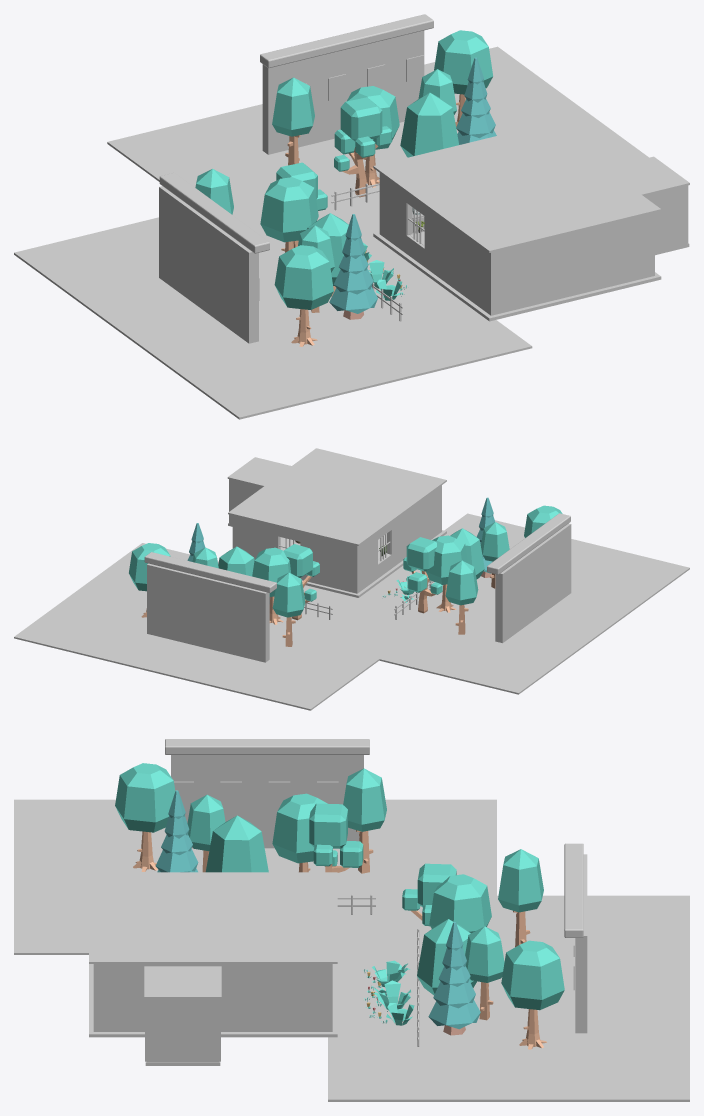
Rendered from kitchen.glb.
3 views of the same model, one above another, from view 1: azimuth 30°, elevation 25°; view 2: azimuth 150°, elevation 25°; view 3: azimuth 270°, elevation 25° (orthographic). The views are drawn at different scales.
Visible parts, largest first — view 1: grass, ceiling, k_leafsGreen, house_far, brick, roof_far, k_leafsDark, wall_next, k_woodBark, floor_tile, window_far, k_grass (+1 smaller); view 2: grass, house_far, ceiling, k_leafsGreen, brick, roof_far, k_woodBark, floor_tile, k_leafsDark, wall_next, fence; view 3: grass, k_leafsGreen, ceiling, brick, house_far, roof_far, k_leafsDark, wall_next, k_woodBark, window_far, floor_tile, k_grass (+1 smaller).
Part boxes in pixels (bbox=[...]): grass: bbox=[14, 46, 648, 419]; ceiling: bbox=[373, 124, 689, 252]; k_leafsGreen: bbox=[195, 30, 493, 309]; house_far: bbox=[159, 30, 424, 343]; brick: bbox=[379, 173, 654, 315]; roof_far: bbox=[159, 14, 433, 253]; k_leafsDark: bbox=[329, 57, 496, 313]; wall_next: bbox=[644, 185, 688, 252]; k_woodBark: bbox=[281, 94, 465, 346]; floor_tile: bbox=[373, 231, 661, 321]; window_far: bbox=[259, 55, 424, 300]; k_grass: bbox=[363, 243, 406, 300]; grass: bbox=[14, 513, 689, 710]; house_far: bbox=[147, 523, 571, 662]; ceiling: bbox=[227, 448, 446, 545]; k_leafsGreen: bbox=[129, 505, 562, 617]; brick: bbox=[232, 485, 441, 593]; roof_far: bbox=[144, 513, 570, 592]; k_woodBark: bbox=[141, 571, 495, 646]; floor_tile: bbox=[280, 530, 446, 597]; k_leafsDark: bbox=[187, 497, 494, 573]; wall_next: bbox=[229, 479, 262, 524]; fence: bbox=[269, 580, 433, 619]; grass: bbox=[14, 799, 689, 1101]; k_leafsGreen: bbox=[115, 763, 564, 1010]; ceiling: bbox=[89, 872, 337, 999]; brick: bbox=[93, 964, 332, 1031]; house_far: bbox=[171, 755, 587, 1033]; roof_far: bbox=[165, 739, 583, 937]; k_leafsDark: bbox=[155, 790, 480, 1029]; wall_next: bbox=[145, 999, 220, 1062]; k_woodBark: bbox=[133, 830, 546, 1049]; window_far: bbox=[174, 781, 574, 990]; floor_tile: bbox=[89, 964, 337, 1037]; k_grass: bbox=[364, 960, 414, 1025].
Size of the model in its own units: 58.8 by 10.1 by 56.
